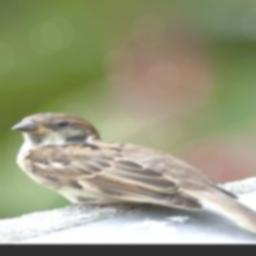Sparrow: (9, 111, 256, 241)
